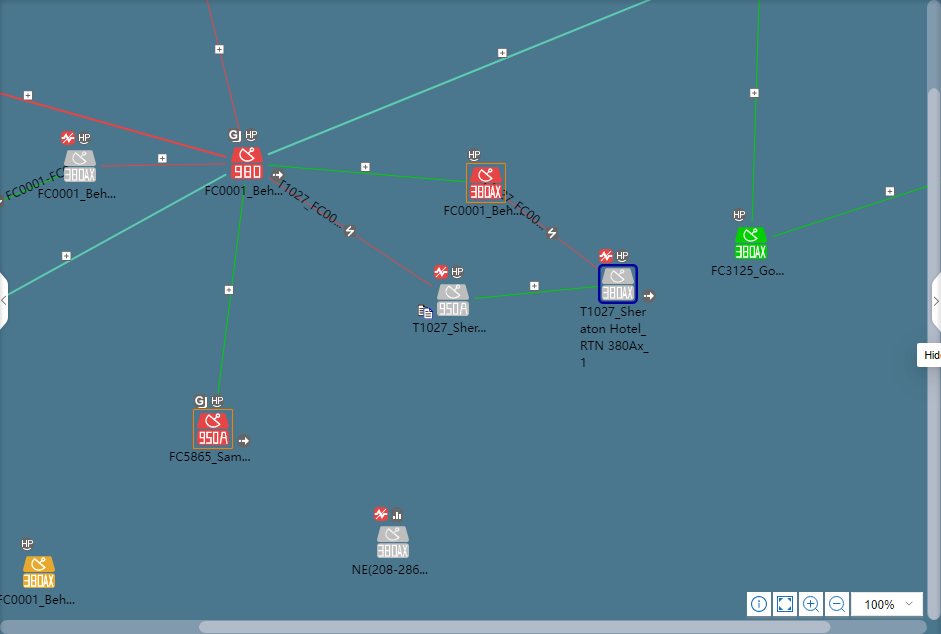Link_Blue: (268, 0, 652, 156), (7, 173, 227, 296)
Link_Green: (772, 183, 928, 239), (216, 186, 248, 396), (266, 163, 465, 183), (749, 0, 761, 226), (473, 284, 598, 300), (0, 173, 60, 206)
Link_Red: (268, 173, 433, 289), (0, 90, 226, 160), (508, 194, 598, 274), (204, 1, 241, 130), (102, 161, 224, 168)
RTN_Gray: (600, 267, 635, 302), (377, 527, 408, 559), (64, 150, 95, 182), (437, 285, 468, 316)
RTN_Green: (735, 227, 767, 259)
RTN_Red: (194, 411, 231, 448), (467, 167, 503, 201), (231, 147, 262, 179)
RTN_Yellow: (23, 557, 54, 589)
